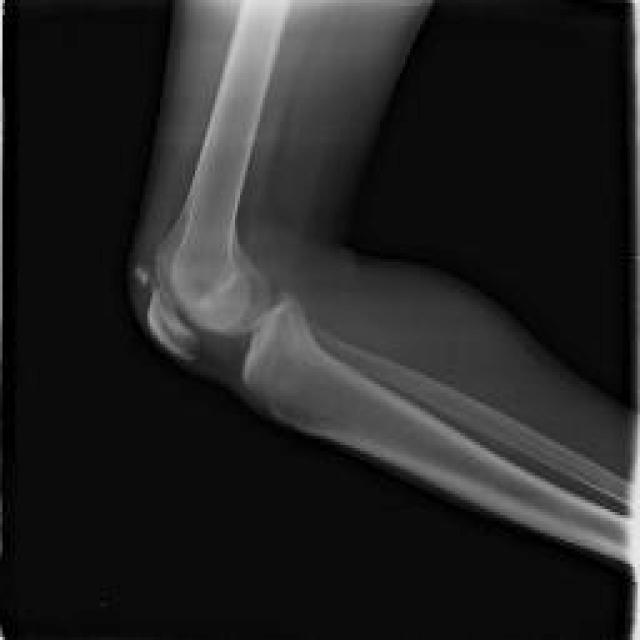normal: (242, 302, 637, 564), (319, 328, 639, 505), (155, 0, 291, 330), (148, 288, 198, 360)
